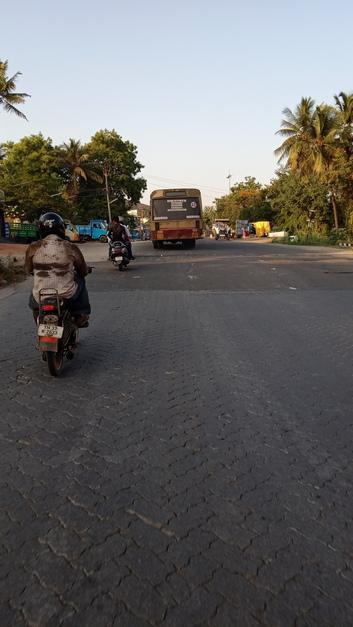speedbreaker: (110, 250, 336, 261)
